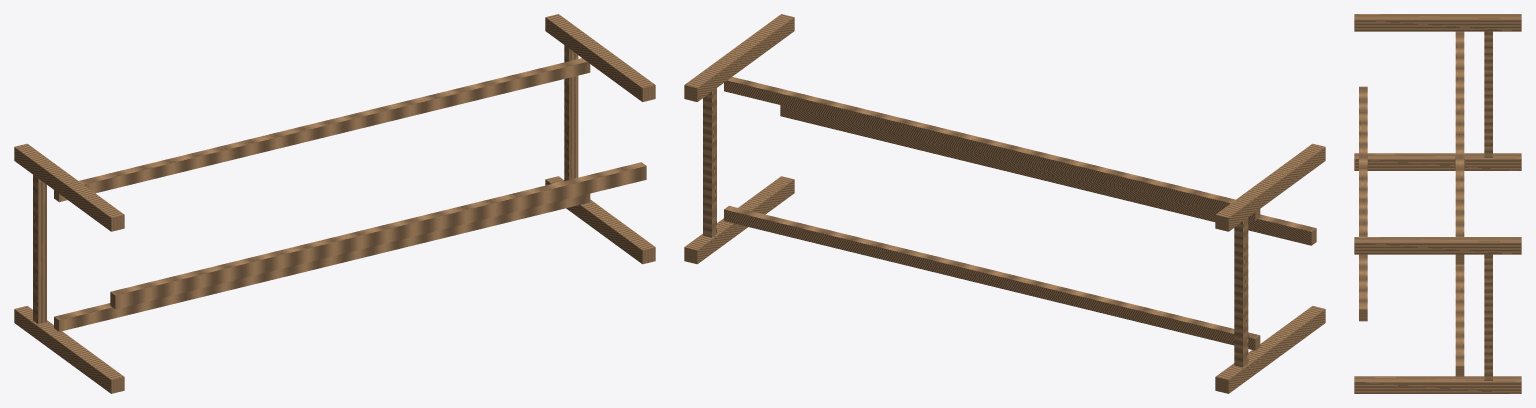
The model's file is perch_frame.obj.
3 renders of one model, left to right at view 1: azimuth 30°, elevation 25°; view 2: azimuth 150°, elevation 25°; view 3: azimuth 270°, elevation 25°, orthographic. The views are drawn at different scales.
Bounding box in the file's own units: 2.46 × 0.76 × 0.76.
Materials: 1 (1 with a texture image).
